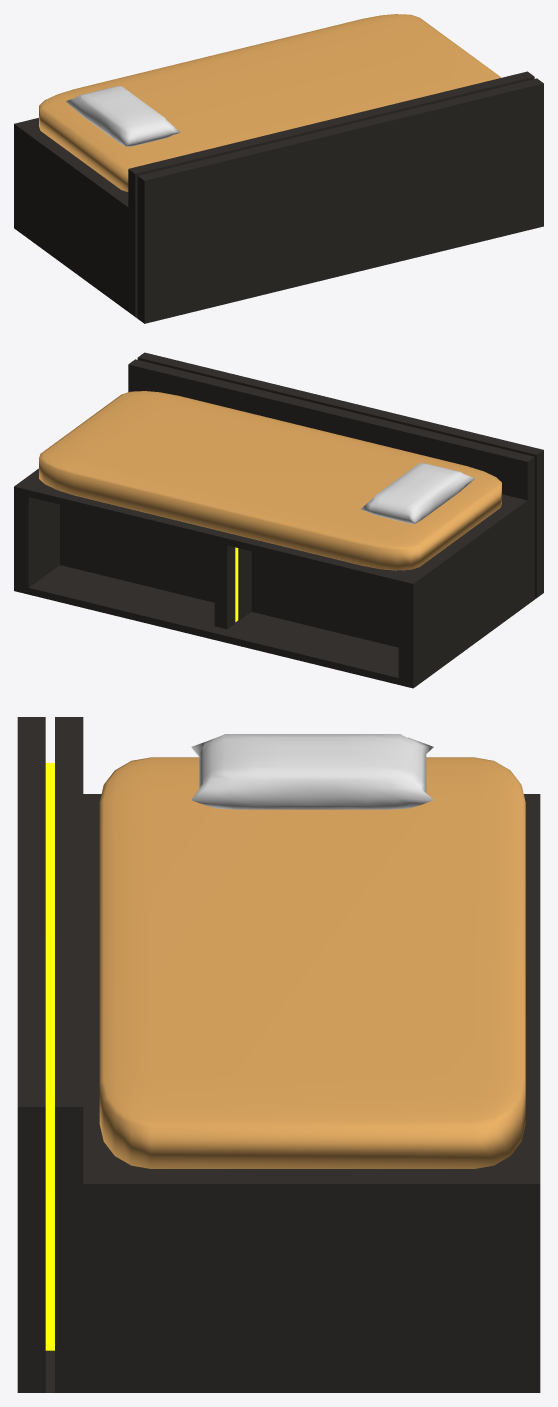
The model's file is bed.fbx.
3 views of the same model, one above another, from view 1: azimuth 30°, elevation 25°; view 2: azimuth 150°, elevation 25°; view 3: azimuth 270°, elevation 25° (orthographic). The views are drawn at different scales.
Parts seen in each view (by area): view 1: Cube, Cube.001, Cube.002; view 2: Cube, Cube.001, Cube.002; view 3: Cube.001, Cube, Cube.002.
Boxes of the visible parts, left/top/right/bottom form: Cube: left=14, top=71, right=543, bottom=323; Cube.001: left=39, top=14, right=500, bottom=191; Cube.002: left=66, top=86, right=180, bottom=146; Cube: left=14, top=352, right=543, bottom=688; Cube.001: left=39, top=391, right=501, bottom=570; Cube.002: left=360, top=463, right=475, bottom=523; Cube.001: left=99, top=757, right=525, bottom=1168; Cube: left=17, top=717, right=540, bottom=1392; Cube.002: left=191, top=734, right=433, bottom=809.
Size of the model in its own units: 100 by 36.31 by 56.64.
